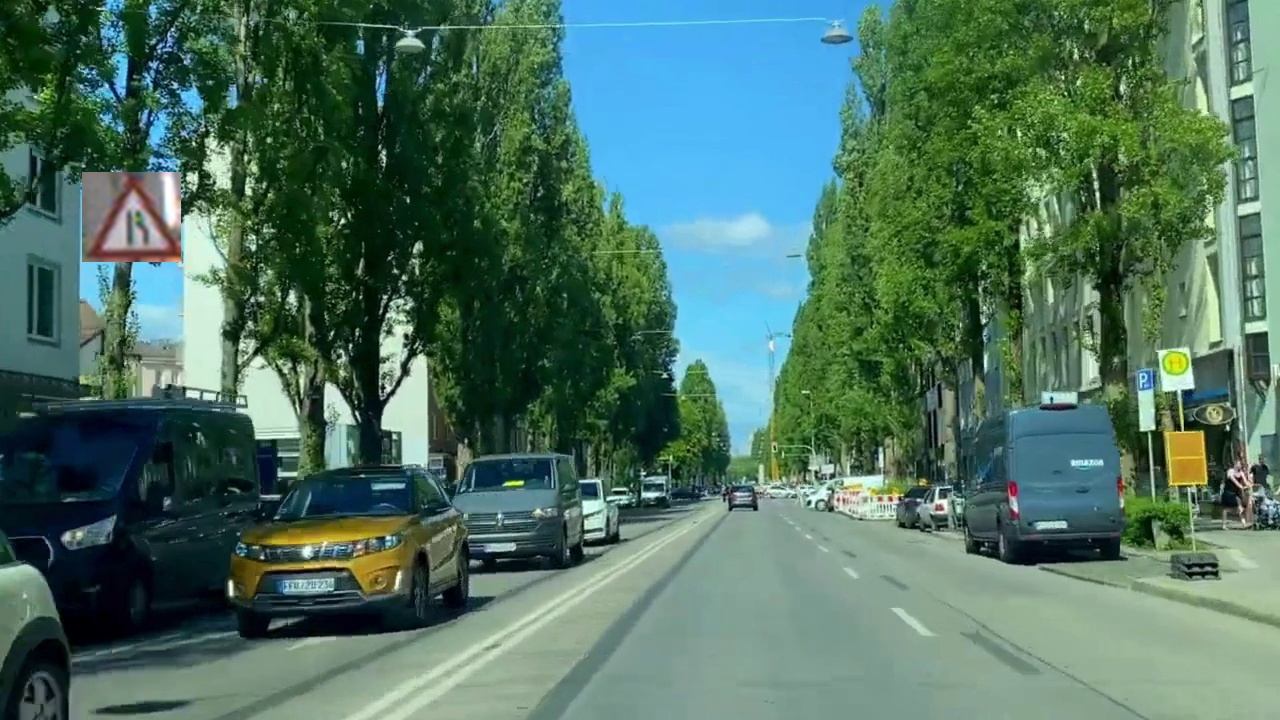Road narrows: (82, 172, 181, 262)
